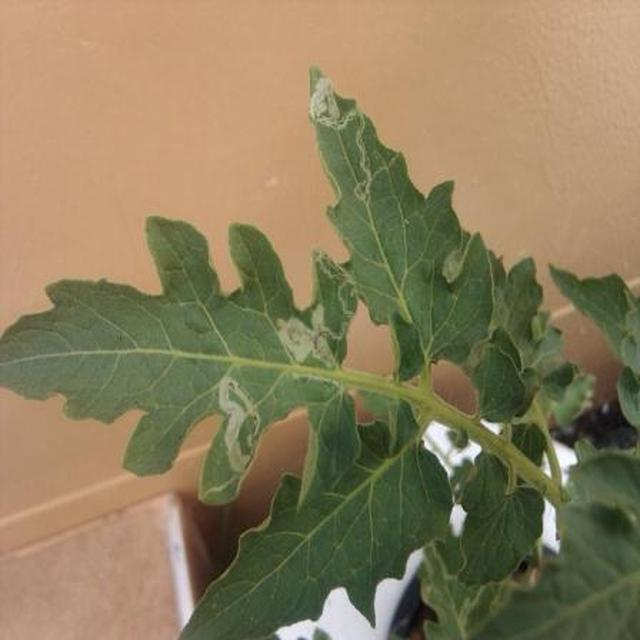Leaf Miner: (256, 307, 566, 509)
